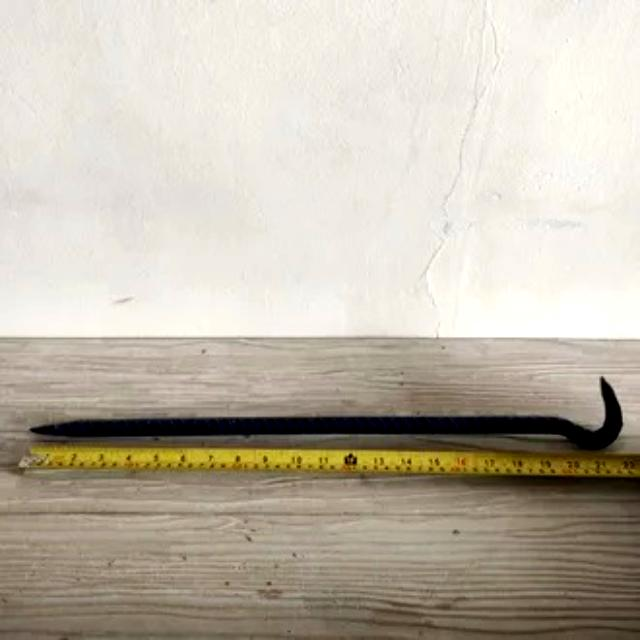crow bar: (34, 379, 622, 454)
